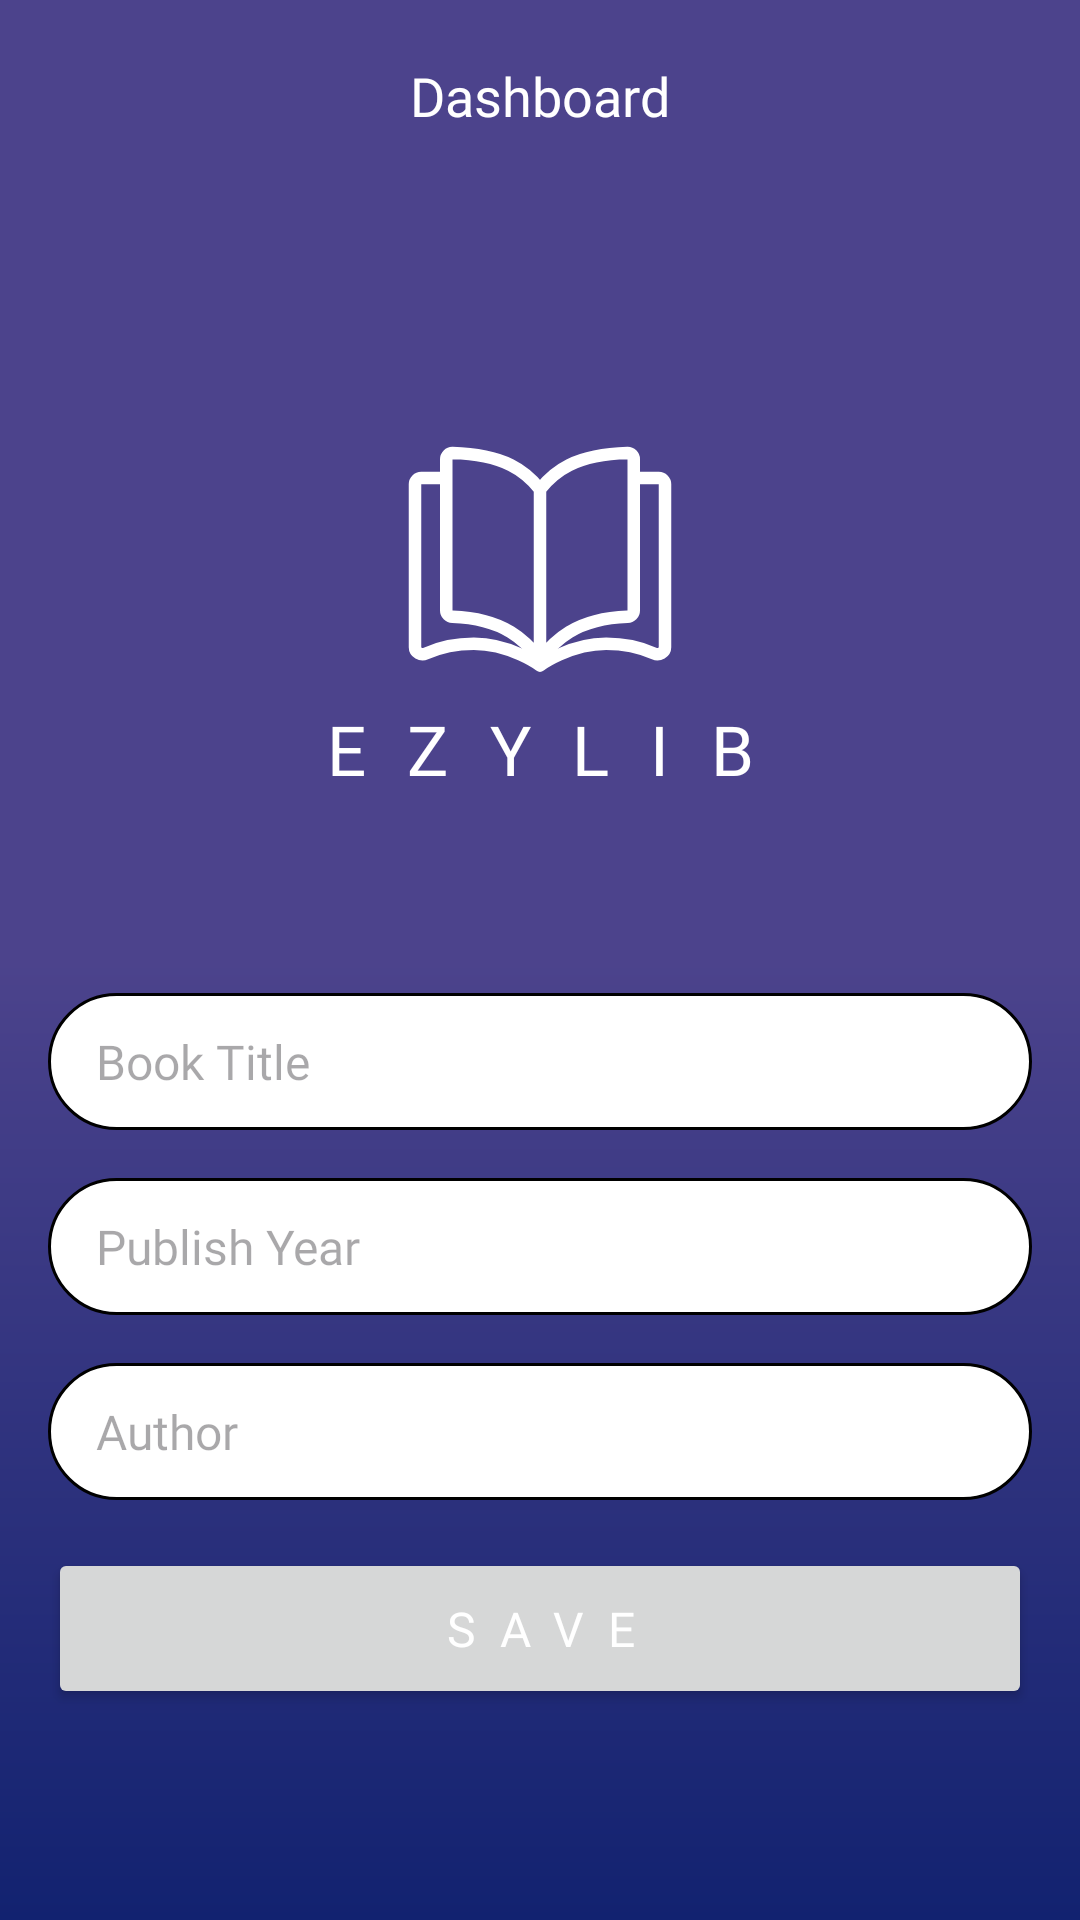

Named icons in this screenshot (1080x1920) and their centers, [x,y]:
book: [540,559]
